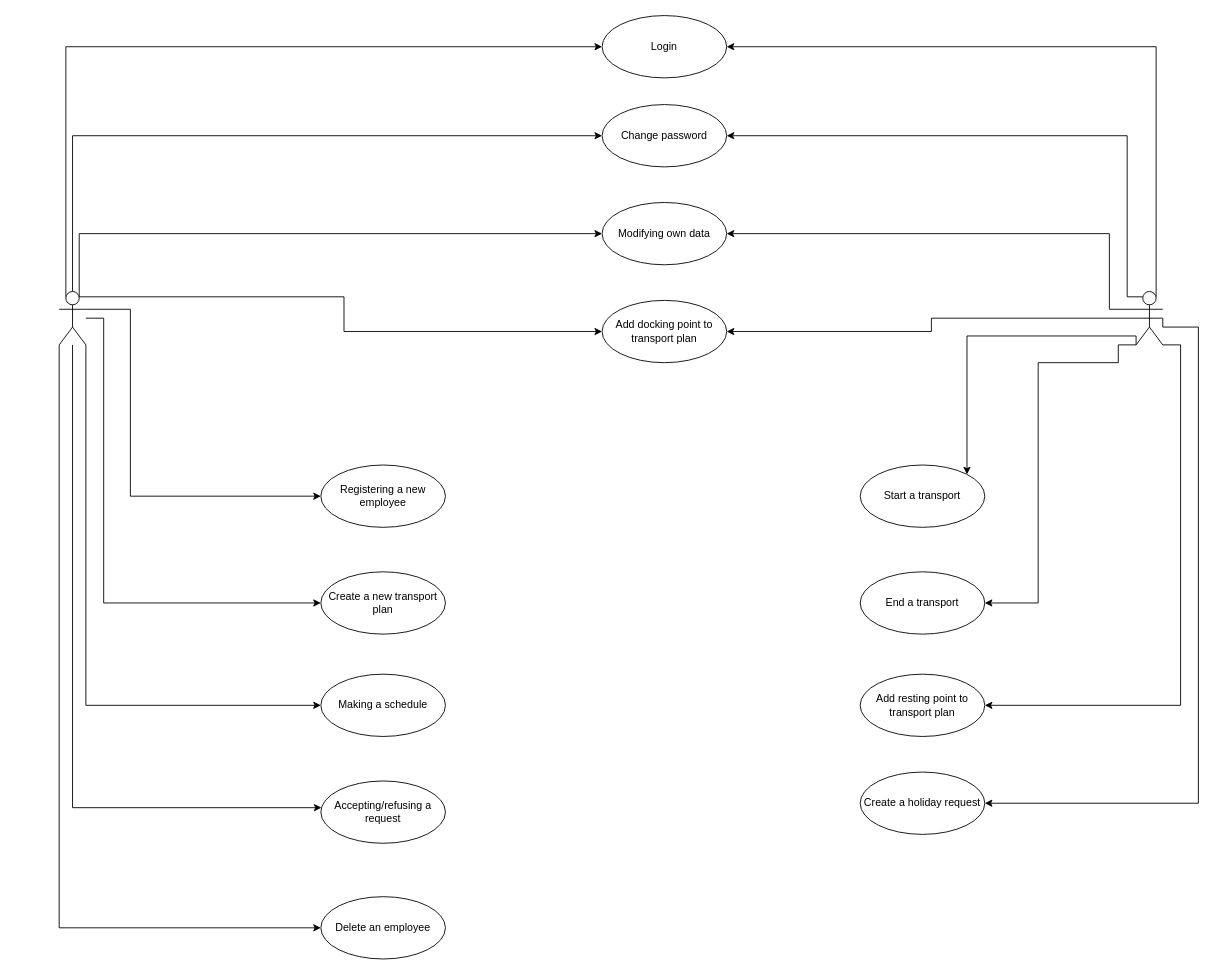
Image size: 1221x975. Some labels were removed from this diagram. The shapes that lost their labels are listed below. From the top down, each one's box as (x1, y1, x2, y2) in pixels, then its label:
(58, 291, 86, 345): Transport_Administrator
(1135, 291, 1163, 345): Driver
